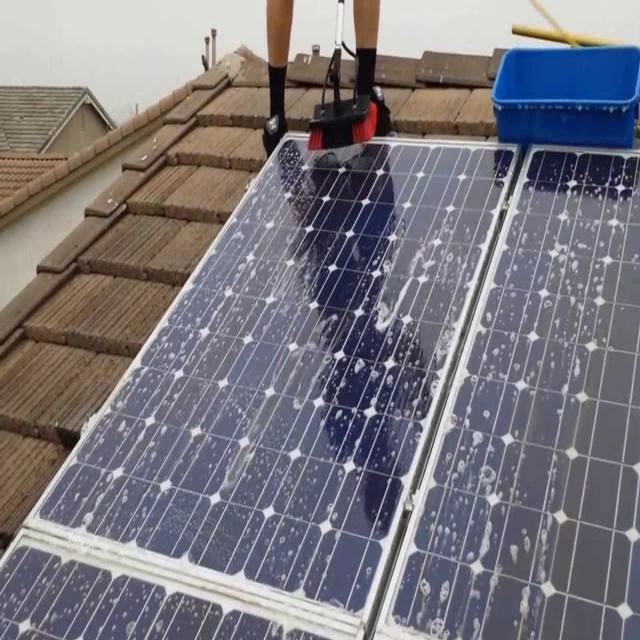faulty: (38, 138, 514, 614), (392, 152, 640, 640)
